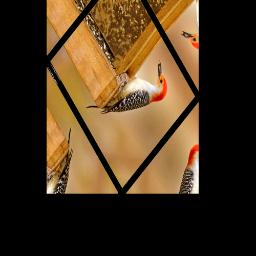Woodpecker: (85, 32, 175, 160)
